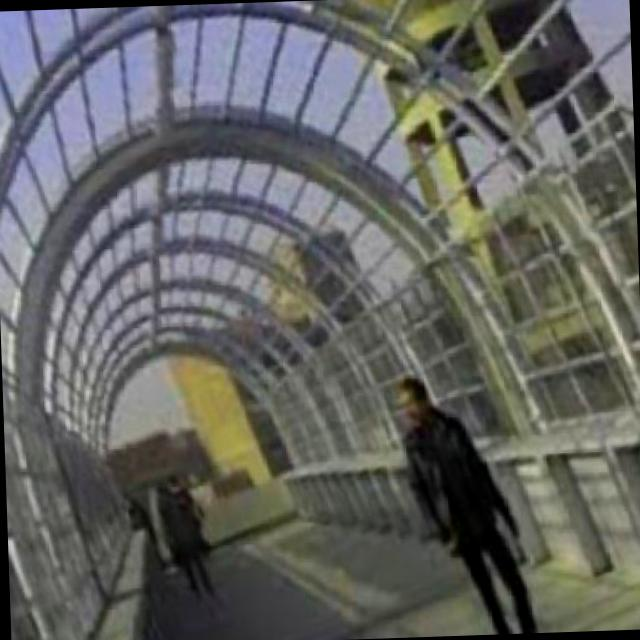Person: (385, 360, 560, 636), (141, 478, 228, 602)
